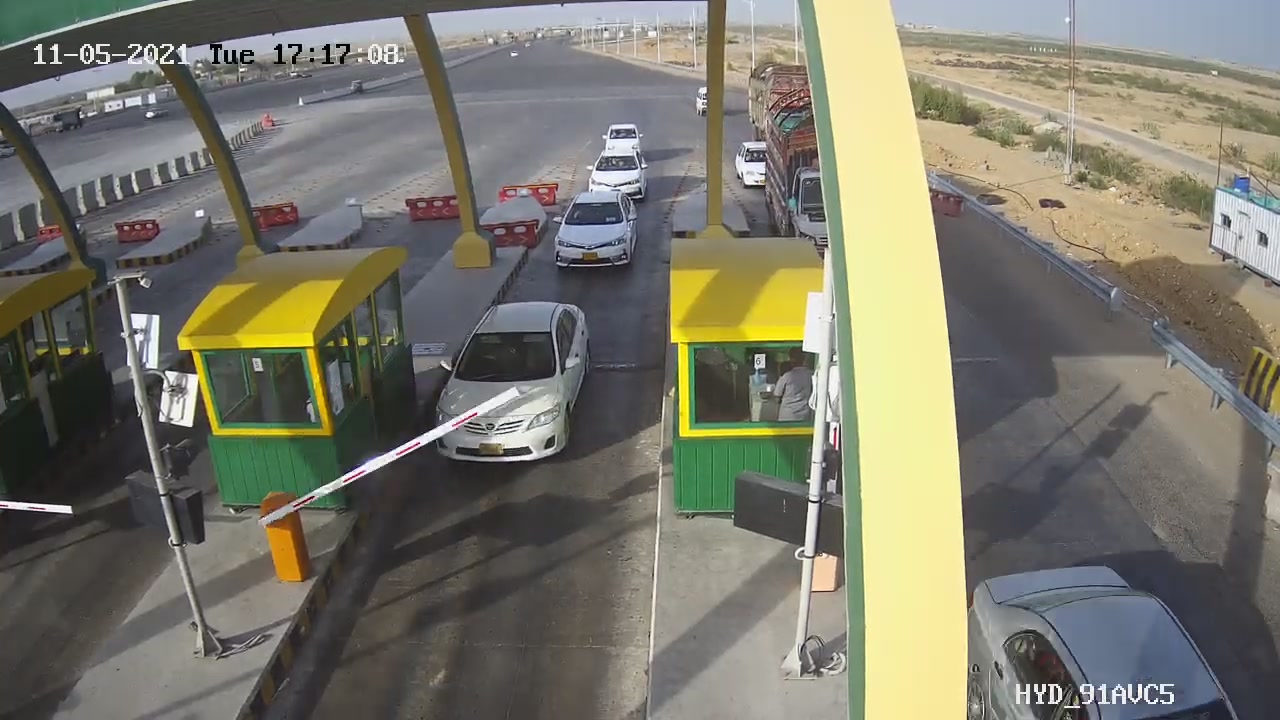F1: (417, 288, 608, 482), (543, 183, 653, 285)
